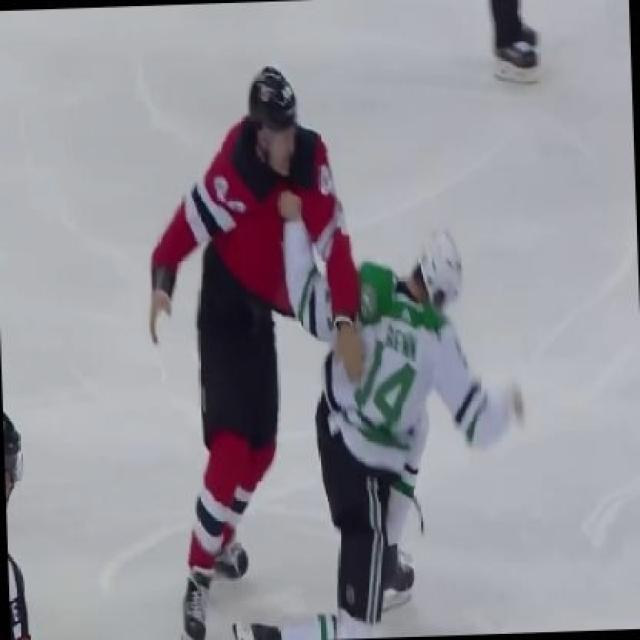fight: (122, 35, 530, 637)
